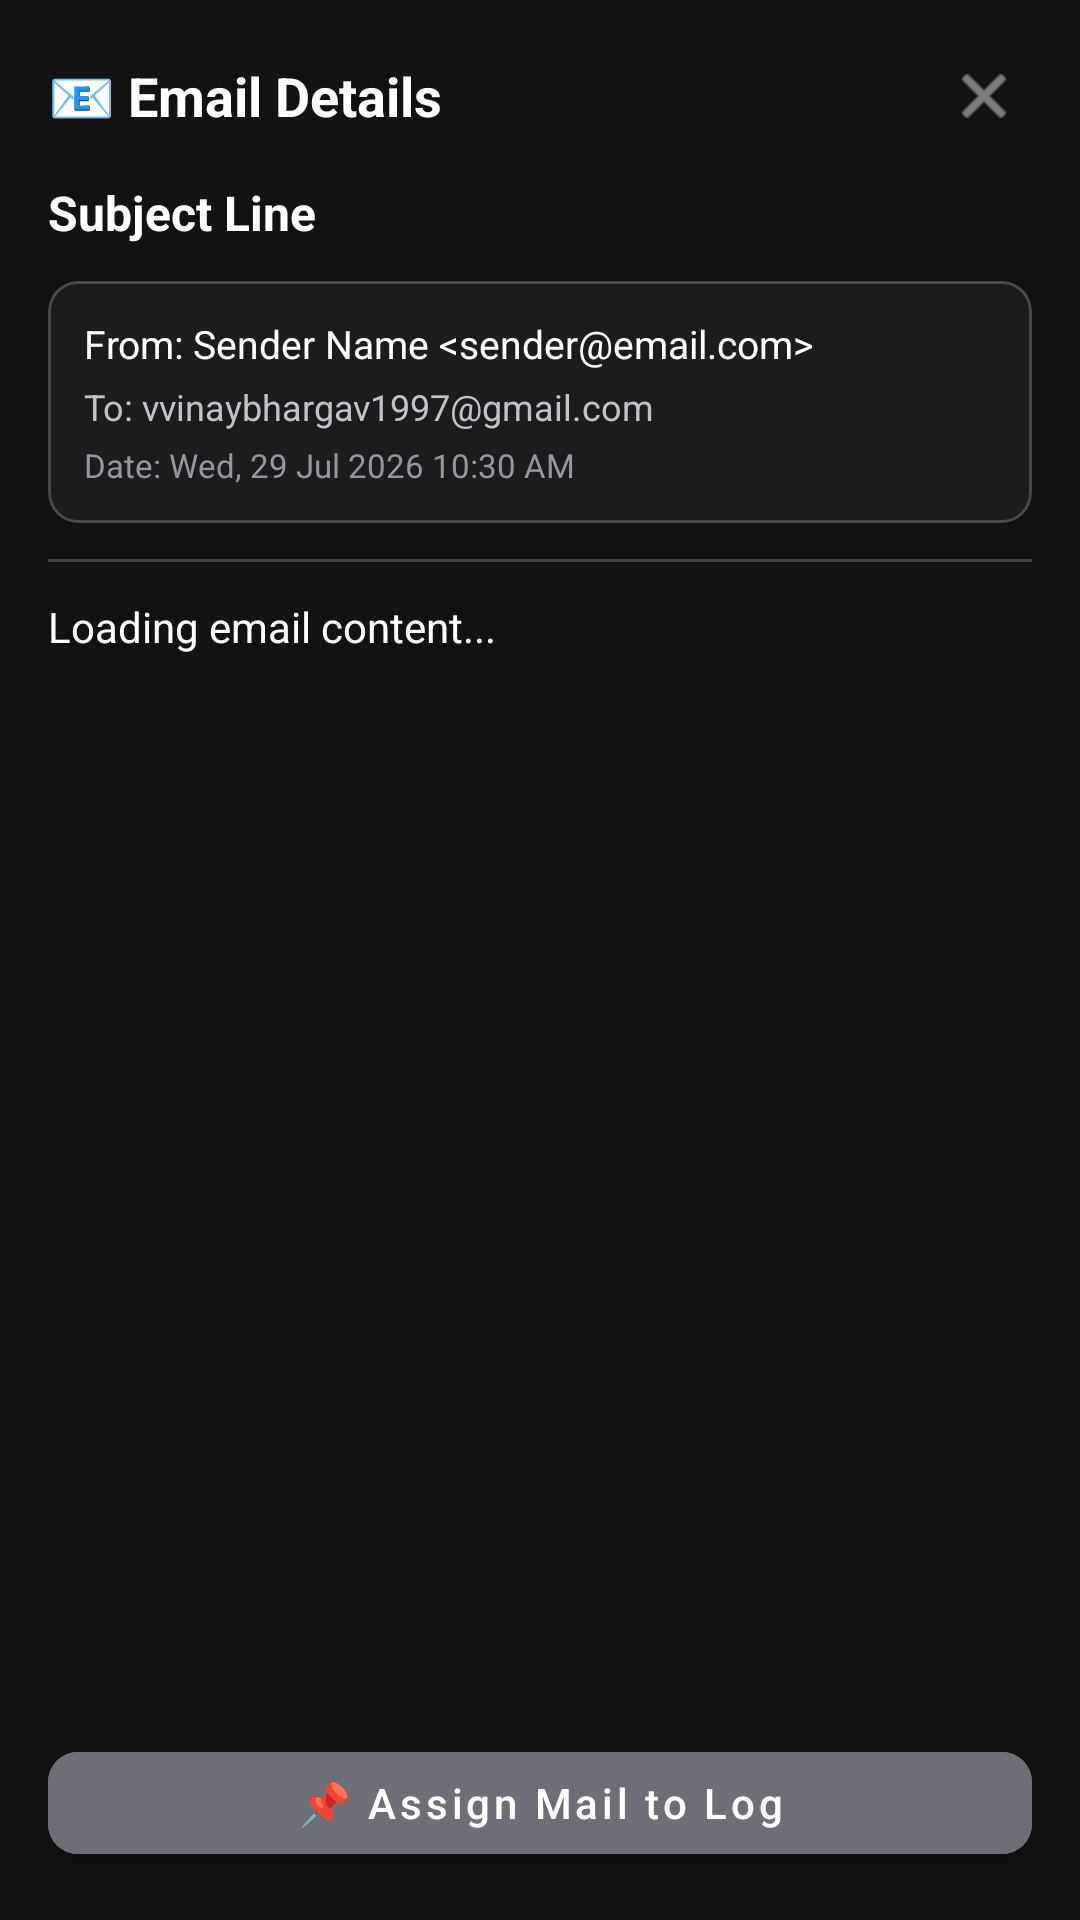

Named icons in this screenshot (1080px×1920px) and their centers, (x=x, y=y):
close clear cancel: (x=984, y=96)
